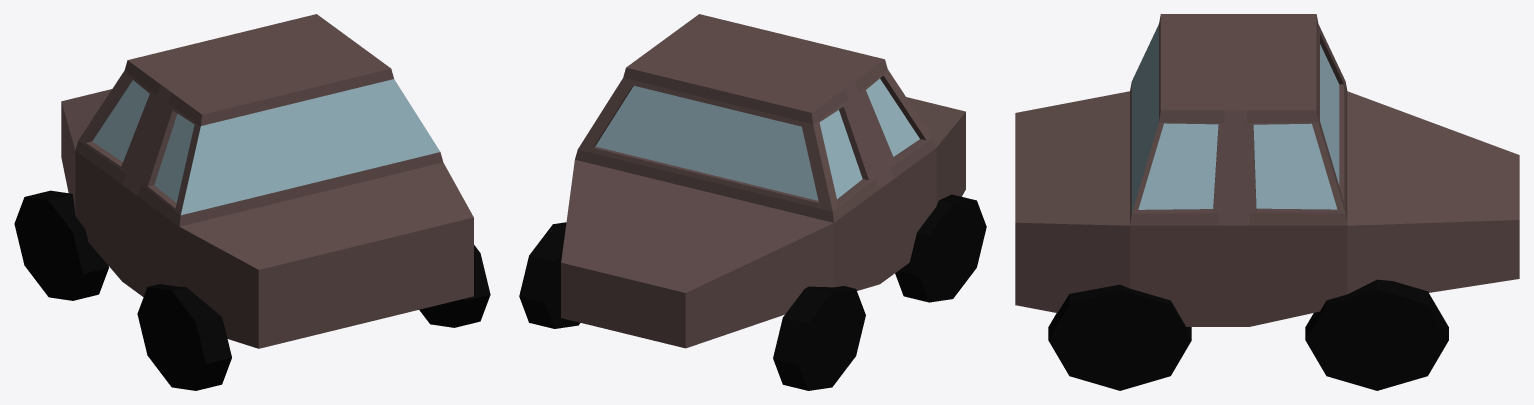
Rendered from SM_Prop_Car02.fbx.
3 views of the same model, side by side, from view 1: azimuth 30°, elevation 25°; view 2: azimuth 150°, elevation 25°; view 3: azimuth 270°, elevation 25° (orthographic). The views are drawn at different scales.
Parts seen in each view (by area): view 1: Cube; view 2: Cube; view 3: Cube.
Boxes of the visible parts, <box> form: Cube: <box>14,14,490,390</box>; Cube: <box>519,14,986,390</box>; Cube: <box>1015,14,1519,390</box>.
Size of the model in its own units: 904 by 509 by 615.
